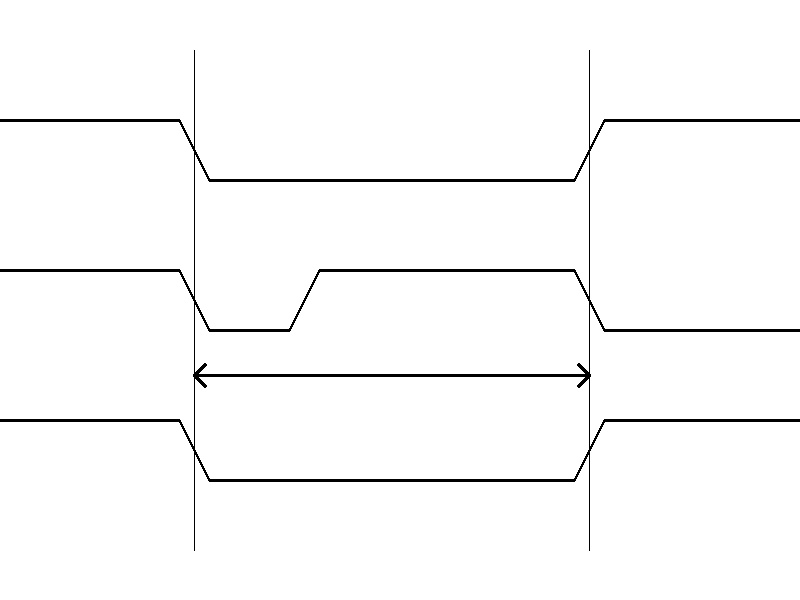double_arrow: (194, 360, 589, 390)
